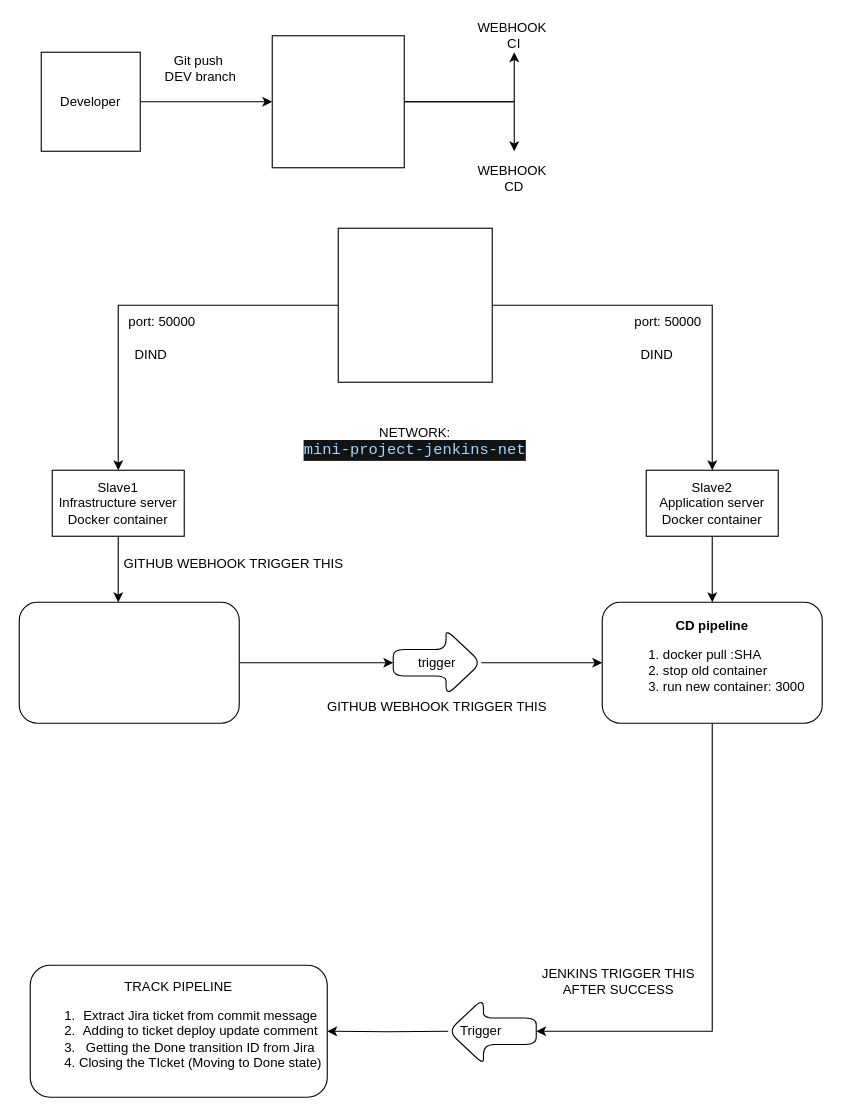
Some shapes in this 842 by 1117 pixel diagram are drawn without their labels. The shapes that lost their labels are listed below. From the top down, each one's box as (x1, y1, x2, y2) in pixels, then its label:
(271, 35, 404, 168): GitHub Private Repo DEV / MAIN
(337, 227, 492, 382): JENKINS MASTER docker compose ports 8080 | 50000
(18, 601, 239, 723): CI pipeline docker build tag commit docker push > hub create PR DEV > MAIN
